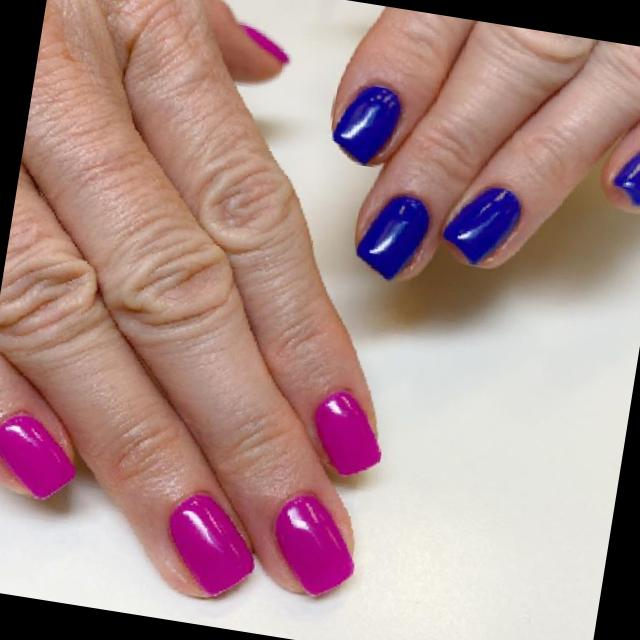Nail: (168, 493, 254, 596), (275, 495, 354, 595), (0, 414, 75, 498), (356, 195, 430, 279), (443, 187, 521, 264), (314, 391, 381, 475), (333, 86, 402, 163), (239, 23, 289, 65), (613, 151, 640, 205)
